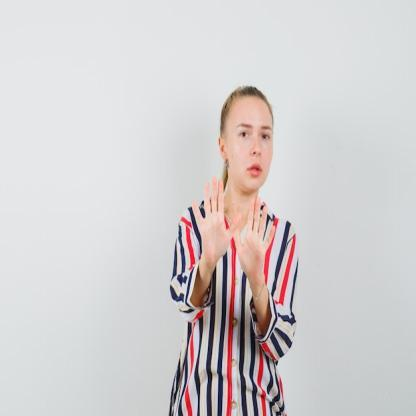stop: (188, 172, 243, 265), (230, 195, 278, 280)
